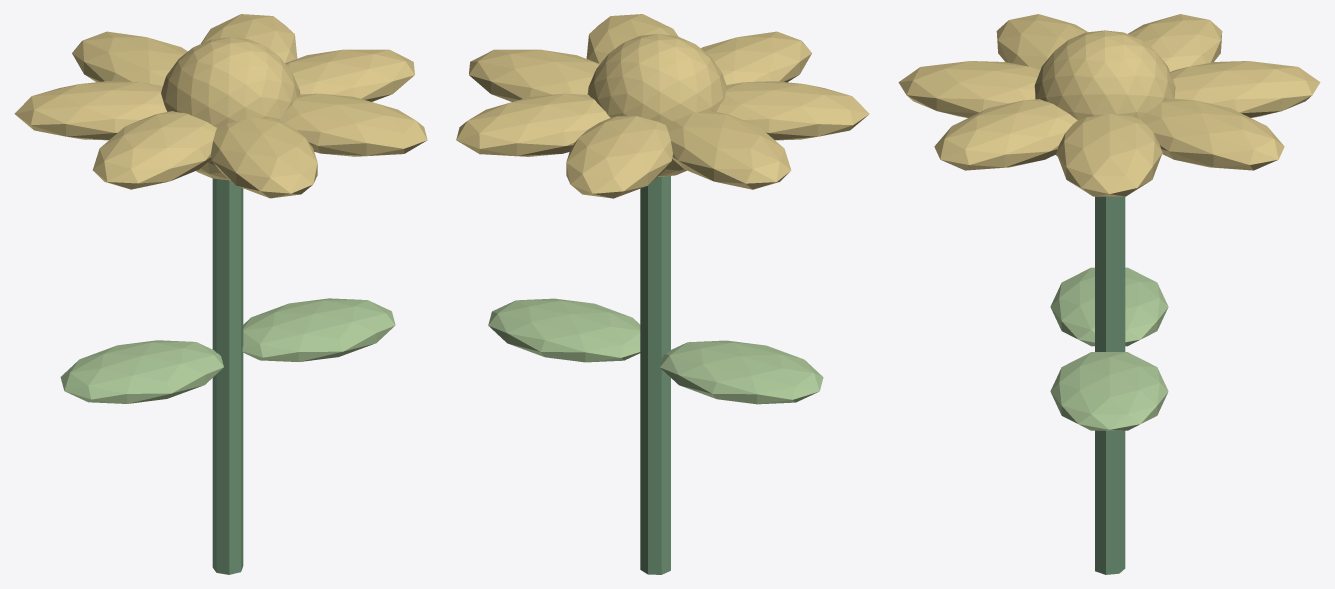
Rendered from flower_yellow.glb.
The picture shows the model from 3 angles, left to right: view 1: azimuth 30°, elevation 25°; view 2: azimuth 150°, elevation 25°; view 3: azimuth 270°, elevation 25°; orthographic projection.
Parts seen in each view (by area): view 1: Stalk, Pollen, Leaf_-1, Leaf_1, Petal_3, Petal_1, Petal_2, Petal_4, Petal_0, Petal_5, Petal_6; view 2: Stalk, Pollen, Leaf_-1, Leaf_1, Petal_4, Petal_6, Petal_5, Petal_3, Petal_0, Petal_2, Petal_1; view 3: Pollen, Stalk, Leaf_1, Petal_6, Petal_1, Petal_0, Petal_5, Petal_2, Leaf_-1, Petal_4, Petal_3.
Part boxes in pixels (x1,y1,x2,y2): Stalk: (212,178,243,574); Pollen: (161,37,300,180); Leaf_-1: (60,340,223,403); Leaf_1: (242,298,395,361); Petal_3: (92,111,216,189); Petal_1: (279,93,427,156); Petal_2: (211,118,317,198); Petal_4: (14,81,167,140); Petal_0: (285,49,414,101); Petal_5: (72,31,187,86); Petal_6: (201,14,297,63); Stalk: (640,176,670,574); Pollen: (587,34,727,176); Leaf_-1: (660,340,823,404); Leaf_1: (488,298,640,362); Petal_4: (666,111,791,189); Petal_6: (456,93,610,156); Petal_5: (566,116,672,198); Petal_3: (716,81,869,140); Petal_0: (469,49,599,101); Petal_2: (701,31,811,85); Petal_1: (586,14,678,63); Pollen: (1034,30,1175,156); Stalk: (1095,196,1125,574); Leaf_1: (1050,352,1168,430); Petal_6: (1140,98,1284,170); Petal_1: (934,99,1077,170); Petal_0: (1056,114,1162,196); Petal_5: (1170,61,1320,117); Petal_2: (898,61,1040,117); Leaf_-1: (1050,267,1168,346); Petal_4: (1128,14,1222,71); Petal_3: (996,14,1087,69).
Size of the model in its own units: 0.9049 by 1.29 by 0.9281.
